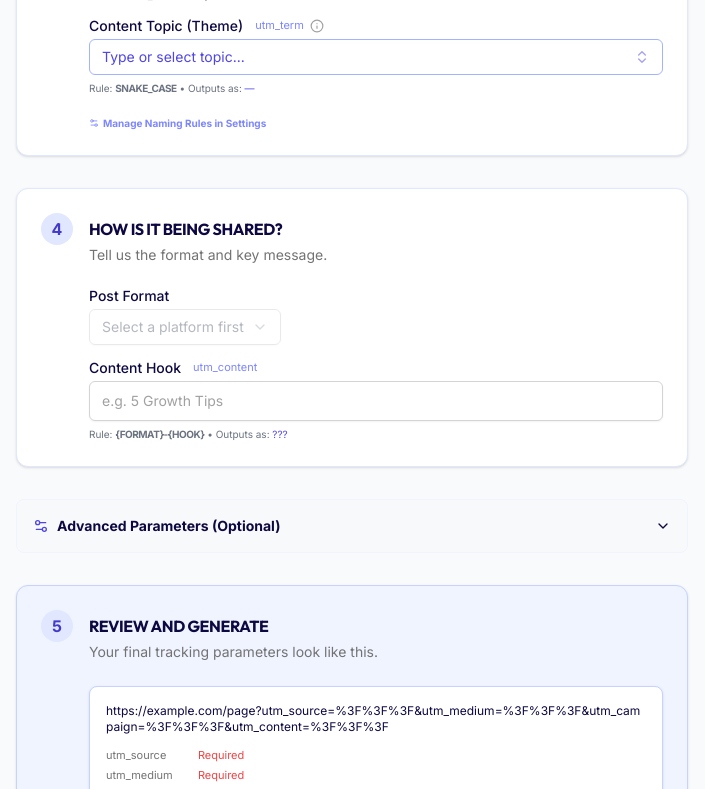
Scenario: UtmGeneratorForm › validates content hook on blur when too short
(page scrolled)
Type "x" into the field labelled "Content Hook utm_content".
click(376, 400); type("x")  # box [89,380,663,420]
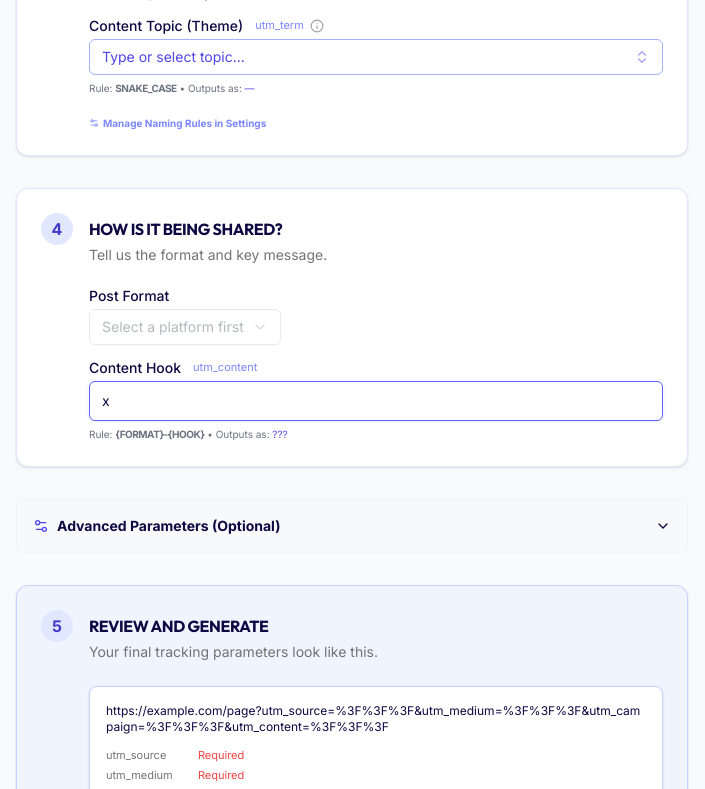
Press Tab
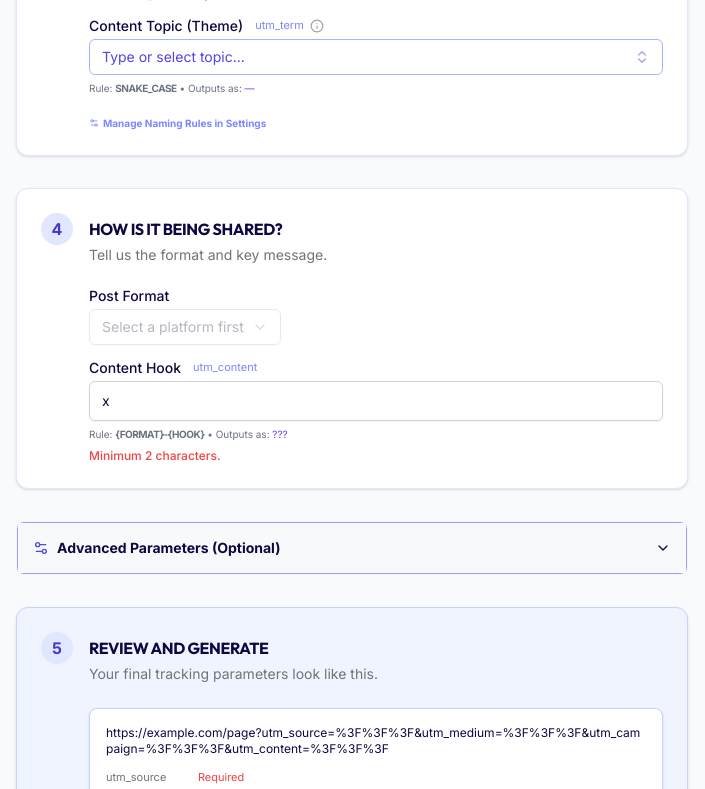
Expected: the text "Minimum 2 characters." is shown, [89,448,221,462]
